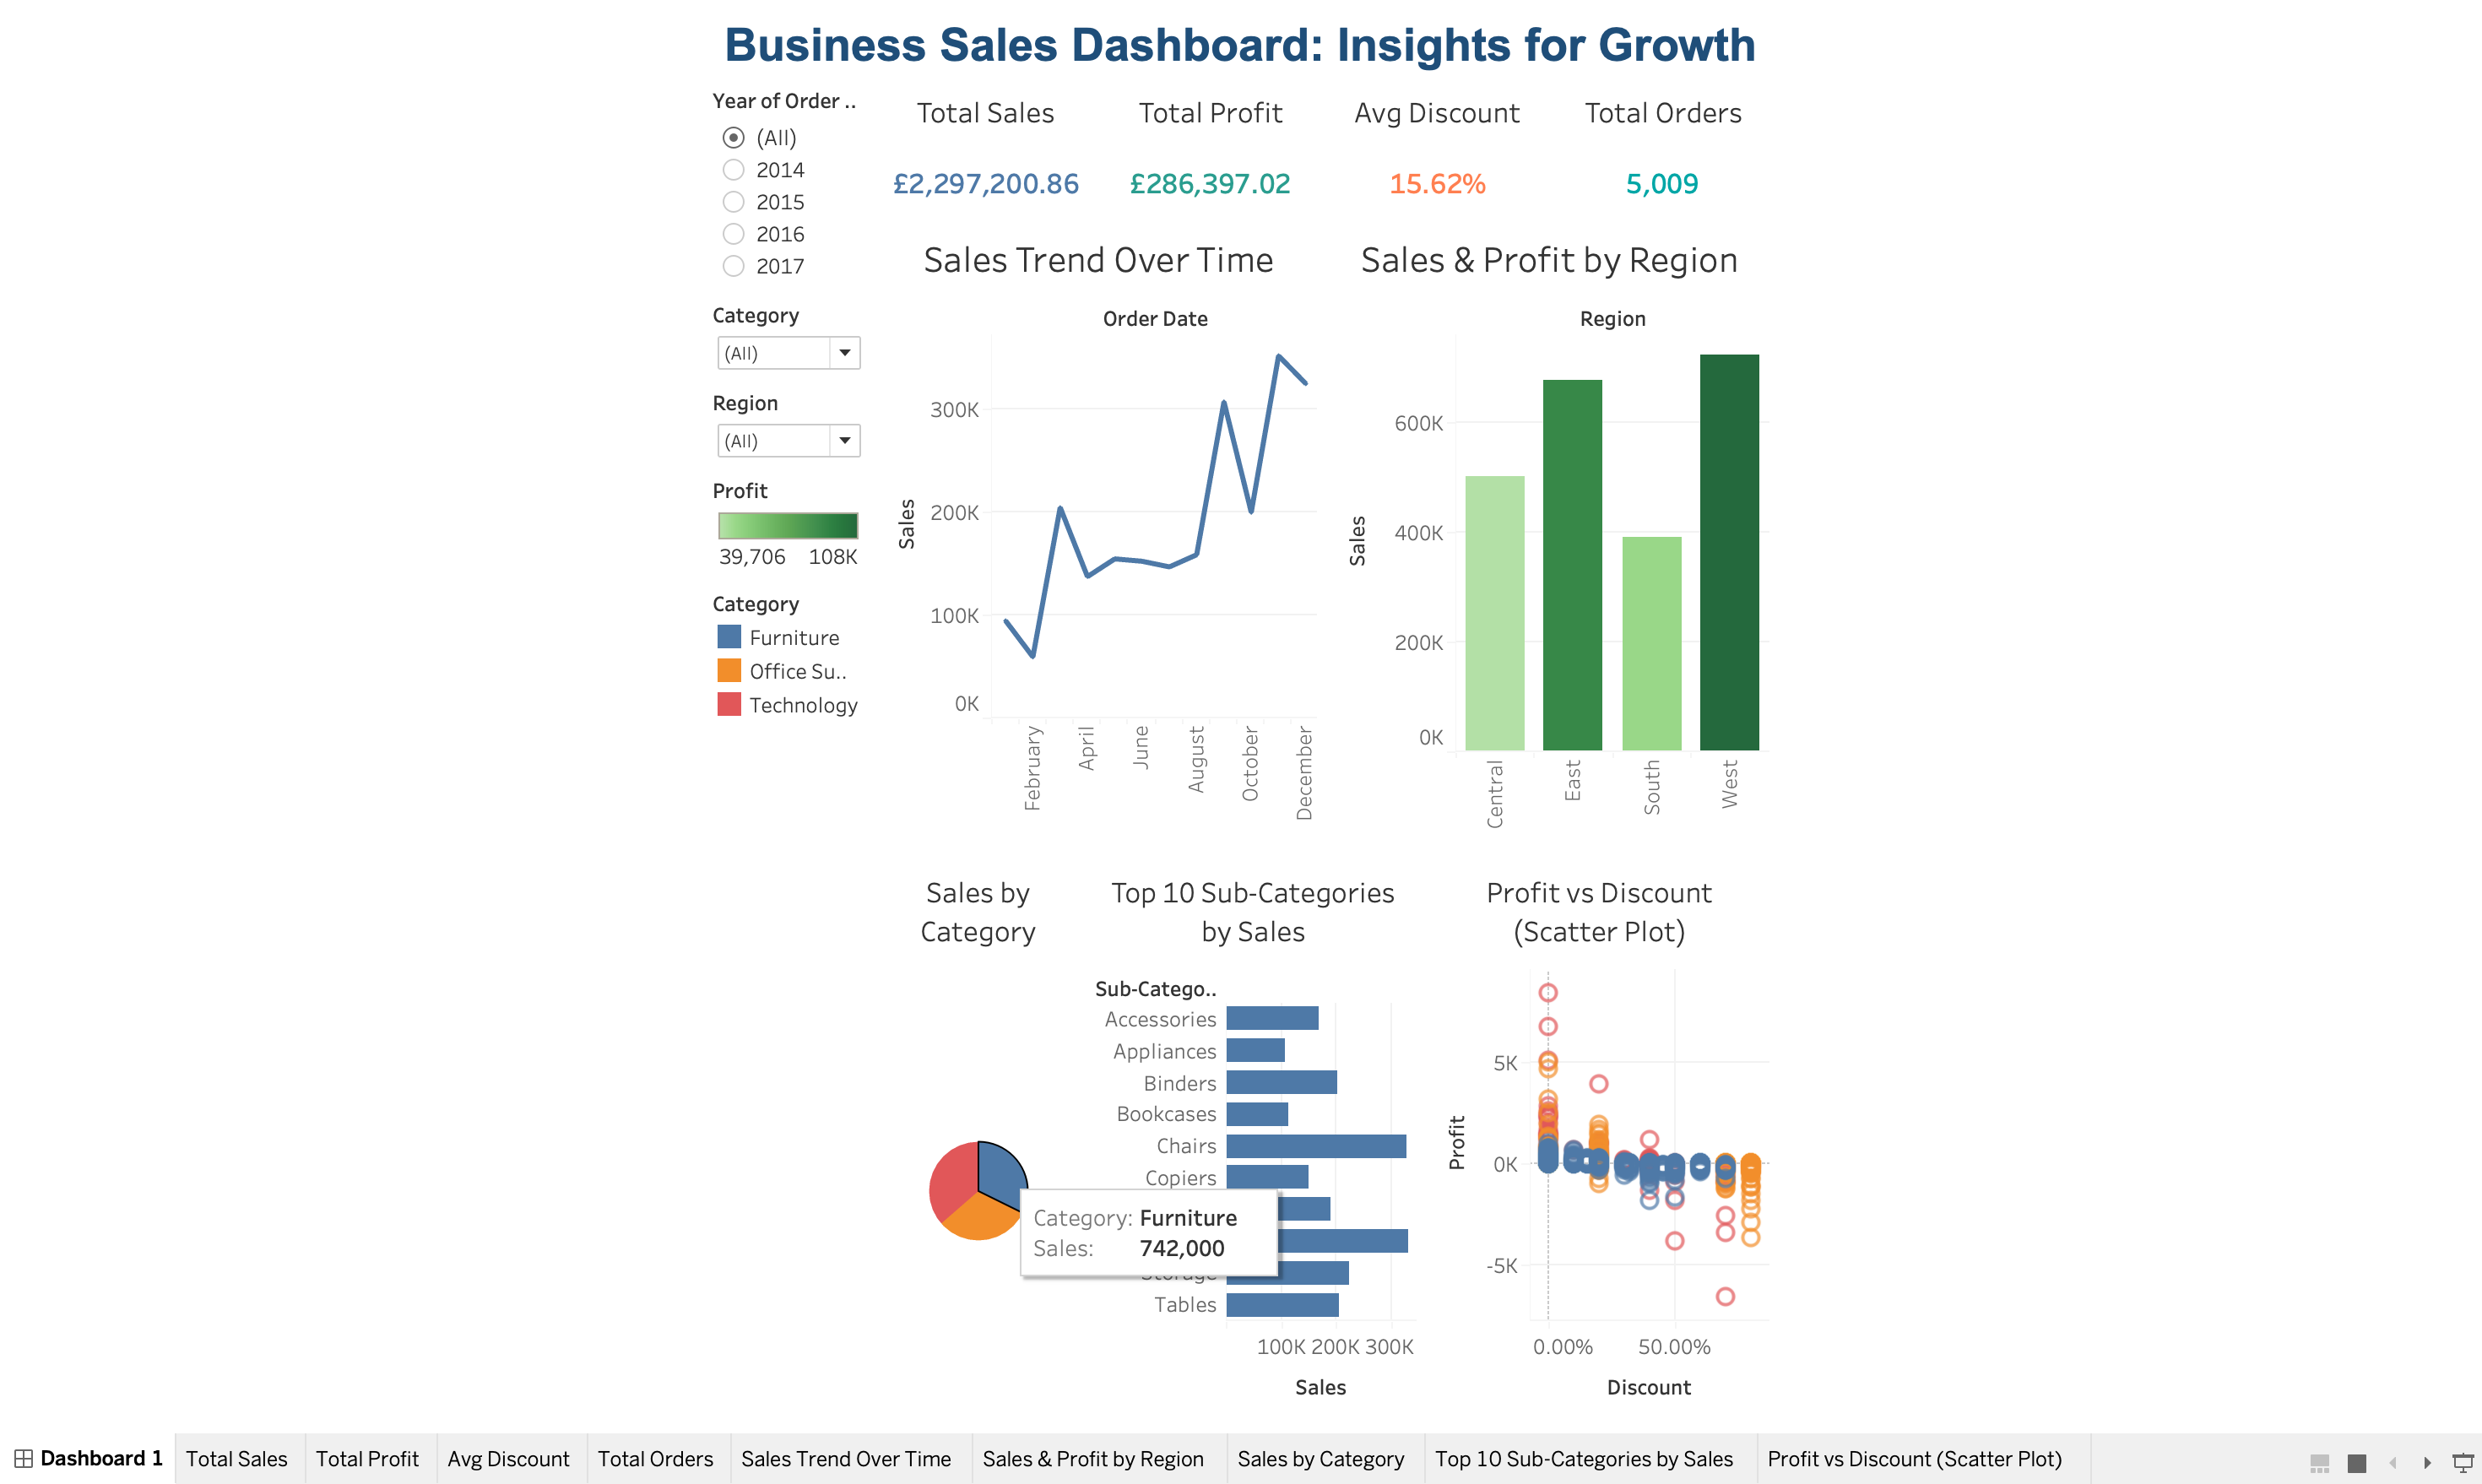

This screenshot's page, from the dashboard's own definition file:
{"tool":"tableau","page":{"name":"Dashboard 1","canvas":[650,860],"ordinal":0},"visuals":[{"type":"title","box":[8,10.1,634,49.1]},{"type":"filter","title":"Sales Trend Over Time","param":"[federated.1gwn0qv1cjhpeu1fh6lrx128y9p9].[yr:Order Date:ok]","box":[8,59.2,99,167.5]},{"type":"worksheet","title":"Total Sales","mark":"Automatic","box":[107,59.2,134.5,83.8]},{"type":"worksheet","title":"Total Profit","mark":"Automatic","box":[241.5,59.2,132.5,83.8]},{"type":"worksheet","title":"Avg Discount","mark":"Automatic","box":[374,59.2,135,83.8]},{"type":"worksheet","title":"Total Orders","mark":"Automatic","box":[509,59.2,133,83.8]},{"type":"worksheet","title":"Sales Trend Over Time","mark":"Automatic","rows":["Sales"],"cols":["Order Date"],"box":[107,143,267.5,376.4]},{"type":"worksheet","title":"Sales & Profit by Region","mark":"Automatic","rows":["Sales"],"cols":["Region"],"box":[374.5,143,267.5,376.4]},{"type":"filter","title":"Sales Trend Over Time","param":"[federated.1gwn0qv1cjhpeu1fh6lrx128y9p9].[none:Category:nk]","box":[8,226.6,99,70.5]},{"type":"filter","title":"Sales Trend Over Time","param":"[federated.1gwn0qv1cjhpeu1fh6lrx128y9p9].[none:Region:nk]","box":[8,297.2,99,70.5]},{"type":"legend","title":"Sales & Profit by Region","param":"[federated.1gwn0qv1cjhpeu1fh6lrx128y9p9].[sum:Profit:qk]","box":[8,367.7,99,88.1]},{"type":"legend","title":"Sales by Category","param":"[federated.1gwn0qv1cjhpeu1fh6lrx128y9p9].[none:Category:nk]","box":[8,455.8,99,112.1]},{"type":"worksheet","title":"Sales by Category","mark":"Pie","box":[107,519.4,125,330.5]},{"type":"worksheet","title":"Top 10 Sub-Categories by Sales","mark":"Automatic","rows":["Sub-Category"],"cols":["Sales"],"box":[232,519.4,201,330.5]},{"type":"worksheet","title":"Profit vs Discount (Scatter Plot)","mark":"Automatic","rows":["Profit"],"cols":["Discount"],"box":[433,519.4,209,330.5]}]}

Visuals, with their boxes in screenshot pixels (x1, y1, x2, y2):
title: x1=1371, y1=24, x2=2452, y2=107
"Sales Trend Over Time" filter: x1=1371, y1=107, x2=1540, y2=393
"Total Sales" worksheet: x1=1540, y1=107, x2=1769, y2=250
"Total Profit" worksheet: x1=1769, y1=107, x2=1995, y2=250
"Avg Discount" worksheet: x1=1995, y1=107, x2=2225, y2=250
"Total Orders" worksheet: x1=2225, y1=107, x2=2452, y2=250
"Sales Trend Over Time" worksheet: x1=1540, y1=250, x2=1996, y2=891
"Sales & Profit by Region" worksheet: x1=1996, y1=250, x2=2452, y2=891
"Sales Trend Over Time" filter: x1=1371, y1=393, x2=1540, y2=513
"Sales Trend Over Time" filter: x1=1371, y1=513, x2=1540, y2=633
"Sales & Profit by Region" legend: x1=1371, y1=633, x2=1540, y2=783
"Sales by Category" legend: x1=1371, y1=783, x2=1540, y2=974
"Sales by Category" worksheet (Pie marks): x1=1540, y1=891, x2=1753, y2=1455
"Top 10 Sub-Categories by Sales" worksheet: x1=1753, y1=891, x2=2095, y2=1455
"Profit vs Discount (Scatter Plot)" worksheet: x1=2095, y1=891, x2=2452, y2=1455
